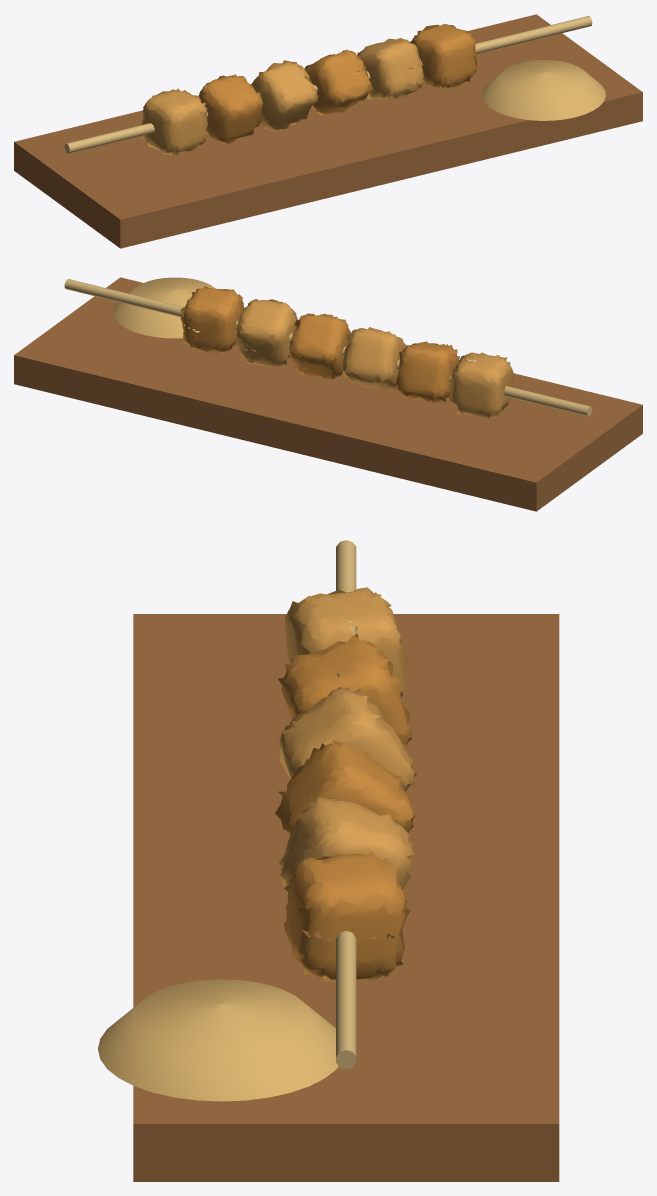
Rendered from espeto-frango.glb.
The picture shows the model from 3 angles, top to bottom: view 1: azimuth 30°, elevation 25°; view 2: azimuth 150°, elevation 25°; view 3: azimuth 270°, elevation 25°; orthographic projection. The views are drawn at different scales.
Visible parts, largest first — view 1: espeto-frango; view 2: espeto-frango; view 3: espeto-frango.
Boxes of the visible parts, left/top/right/bottom form: espeto-frango: left=14, top=14, right=642, bottom=248; espeto-frango: left=14, top=277, right=642, bottom=511; espeto-frango: left=98, top=540, right=559, bottom=1181.
Bounding box in the file's own units: 0.34 × 0.0568 × 0.13.
